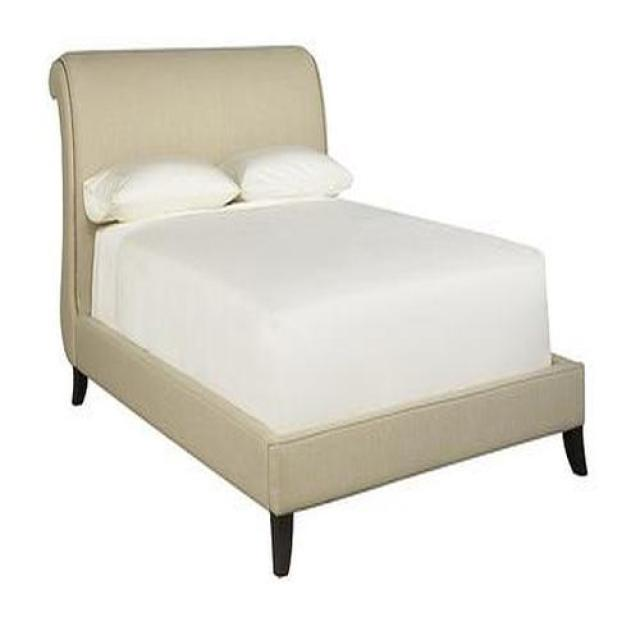bed: (47, 46, 585, 570)
